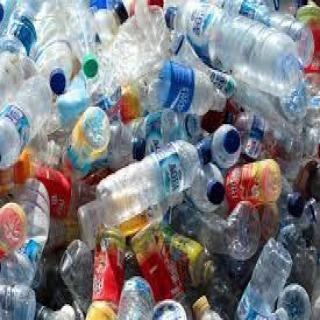Plastic-bottle: (167, 1, 305, 108), (94, 134, 212, 230), (225, 1, 318, 69), (178, 192, 263, 265), (1, 179, 53, 292), (154, 56, 231, 124), (234, 237, 293, 320), (1, 78, 50, 169), (61, 106, 112, 179), (37, 1, 74, 99), (224, 157, 284, 209), (66, 1, 101, 87), (58, 239, 99, 310), (189, 160, 232, 216), (121, 274, 159, 320), (209, 116, 241, 169), (94, 1, 129, 46), (280, 277, 315, 320), (1, 282, 37, 320)
